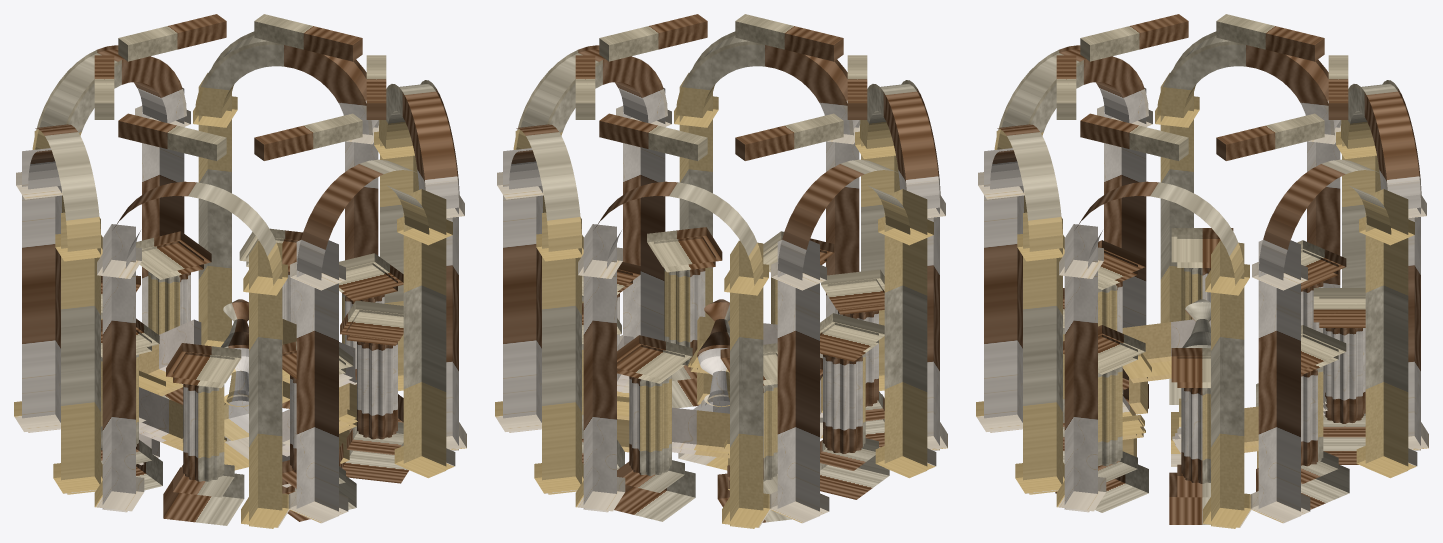
Rendered from museum_pedestal.gltf.
3 views of the same model, side by side, from view 1: azimuth 30°, elevation 25°; view 2: azimuth 150°, elevation 25°; view 3: azimuth 270°, elevation 25° (orthographic).
Parts seen in each view (by area): view 1: Stone arch bay 4, Stone arch bay 2, Stone arch bay 3, Stone arch bay 6, Stone arch bay 5, Stone arch bay 1, Fluted stone column 4, Fluted stone column 6, Fluted stone column 1, Central carved marble sculpture, Fluted stone column 7, Gold cornice 1 (+12 smaller); view 2: Stone arch bay 2, Stone arch bay 6, Stone arch bay 1, Stone arch bay 4, Stone arch bay 5, Stone arch bay 3, Fluted stone column 1, Fluted stone column 3, Fluted stone column 6, Fluted stone column 4, Central carved marble sculpture, Fluted stone column 2 (+12 smaller); view 3: Stone arch bay 6, Stone arch bay 4, Stone arch bay 5, Stone arch bay 2, Stone arch bay 1, Stone arch bay 3, Fluted stone column 1, Fluted stone column 7, Fluted stone column 6, Fluted stone column 8, Walnut bench 2, Fluted stone column 3 (+11 smaller).
Part boxes in pixels (x1,y1,x2,y2): Stone arch bay 4: (287,159,455,523); Stone arch bay 2: (14,124,102,494); Stone arch bay 3: (94,181,290,528); Stone arch bay 6: (193,31,379,347); Stone arch bay 5: (374,80,466,450); Stone arch bay 1: (32,45,190,326); Fluted stone column 4: (163,343,244,525); Fluted stone column 6: (339,300,408,483); Fluted stone column 1: (136,231,211,404); Central carved marble sculpture: (221,299,248,470); Fluted stone column 7: (339,253,403,431); Gold cornice 1: (118,14,226,61); Stone arch bay 2: (768,159,936,523); Stone arch bay 6: (495,124,583,494); Stone arch bay 1: (575,181,771,528); Stone arch bay 4: (674,31,860,358); Stone arch bay 5: (513,45,671,341); Stone arch bay 3: (855,80,947,450); Fluted stone column 1: (614,335,695,521); Fluted stone column 3: (820,313,889,499); Fluted stone column 6: (647,227,722,408); Fluted stone column 4: (821,269,884,447); Central carved marble sculpture: (678,299,729,470); Fluted stone column 2: (717,343,791,522); Stone arch bay 6: (1249,159,1417,523); Stone arch bay 4: (976,124,1064,494); Stone arch bay 5: (1056,181,1252,528); Stone arch bay 2: (1155,31,1341,323); Stone arch bay 1: (1336,80,1428,450); Stone arch bay 3: (994,45,1152,327); Fluted stone column 1: (1313,288,1365,464); Fluted stone column 7: (1169,348,1210,524); Fluted stone column 6: (1055,325,1148,512); Fluted stone column 8: (1256,325,1349,509); Walnut bench 2: (1122,319,1210,414); Fluted stone column 3: (1169,228,1233,404).
Bounding box in the file's own units: 5.74 × 5.24 × 5.74.
Materials: 8 (8 with a texture image).
